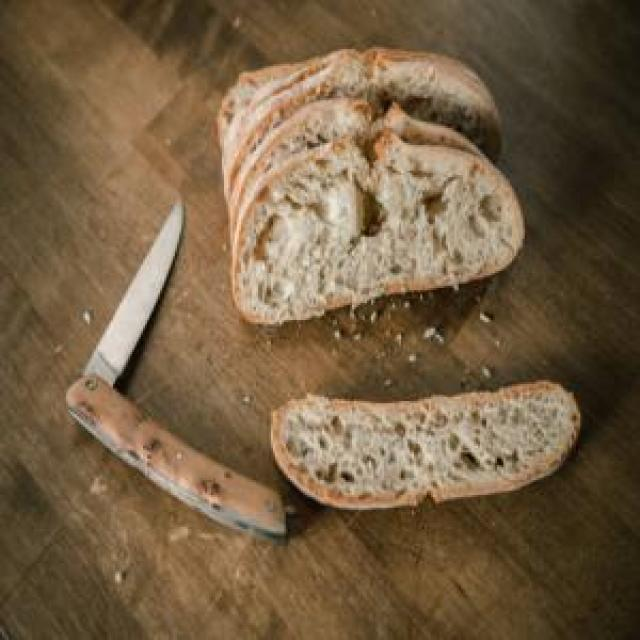knife: (62, 198, 299, 544)
